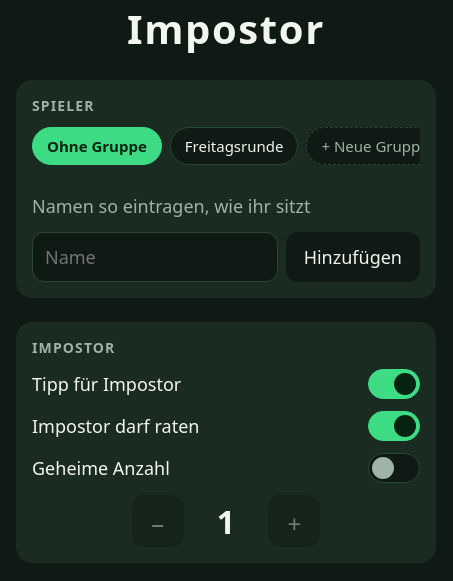
SetupScreen mit Gruppen › nimmt neue Mitglieder direkt in den Kader auf und wählt sie aus
The width and height of the screenshot is (453, 581).
Click the button "Freitagsrunde".
click(234, 146)  # box [170,127,298,165]
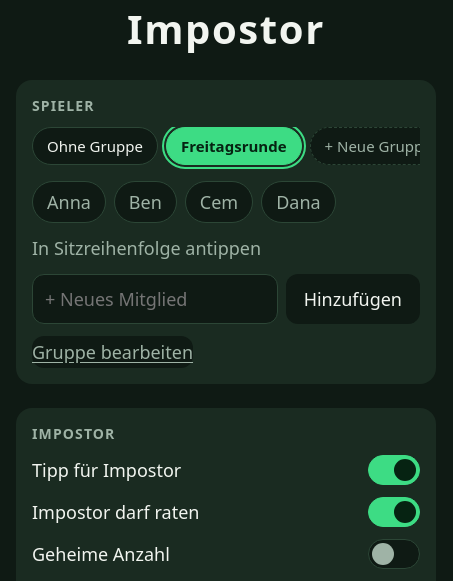
Type "Eli" into the field labelled "Neues Mitglied".
click(155, 299); type("Eli")  # box [32,274,278,324]
Then press Enter
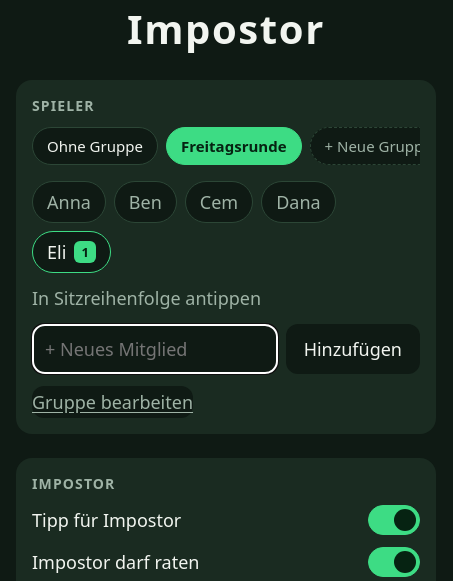
expect the button "Eli 1" is shown: met, box [32,231,111,273]
Type "anna" into the field labelled "Neues Mitglied".
click(155, 349); type("anna")  # box [32,324,278,374]
Then press Enter
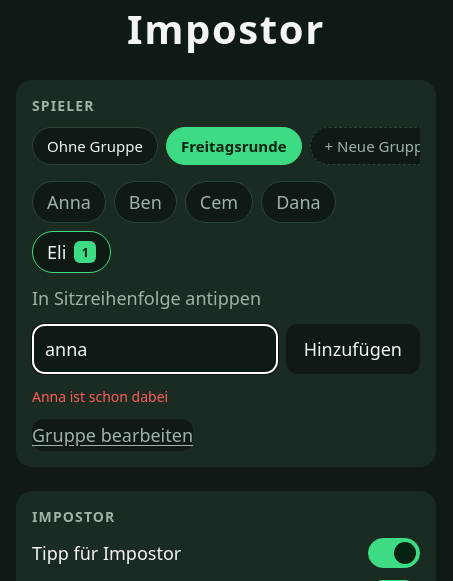
expect the text "Anna ist schon dabei" is shown: met, box [32,387,168,406]
